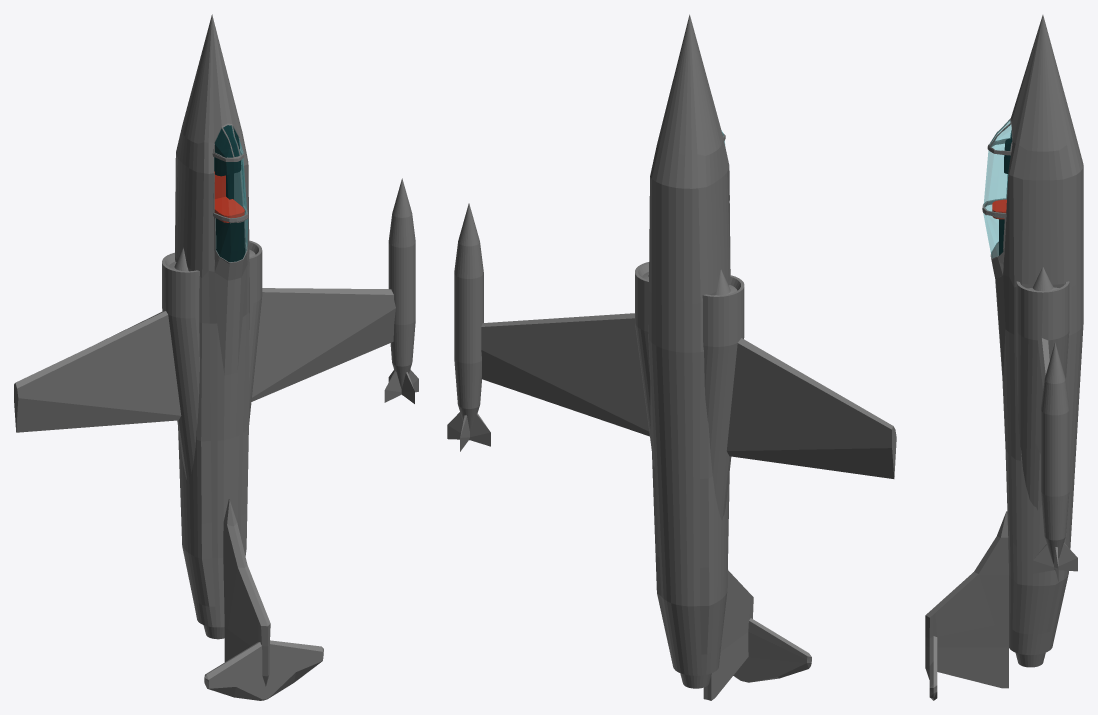
The picture shows the model from 3 angles, left to right: view 1: azimuth 30°, elevation 25°; view 2: azimuth 150°, elevation 25°; view 3: azimuth 270°, elevation 25°; orthographic projection. The views are drawn at different scales.
Parts seen in each view (by area): view 1: CF104, fuel_tanks.001, can_glass, door_glass, console, can_metal, back, seat; view 2: CF104, fuel_tanks.001; view 3: CF104, fuel_tanks.001, door_glass, can_glass, can_metal, door_metal.
Boxes of the visible parts, <box> form: CF104: <box>14,14,395,700</box>; fuel_tanks.001: <box>384,178,418,403</box>; can_glass: <box>215,125,247,261</box>; door_glass: <box>214,157,246,218</box>; console: <box>214,125,241,199</box>; can_metal: <box>213,123,248,280</box>; back: <box>216,218,244,261</box>; seat: <box>214,171,244,222</box>; CF104: <box>481,14,896,700</box>; fuel_tanks.001: <box>447,203,490,451</box>; CF104: <box>925,15,1083,700</box>; fuel_tanks.001: <box>1033,342,1077,581</box>; door_glass: <box>984,144,1010,213</box>; can_glass: <box>983,120,1011,257</box>; can_metal: <box>982,118,1012,278</box>; door_metal: <box>982,140,1011,217</box>.
Size of the model in its own units: 15.03 by 22.96 by 4.83.
